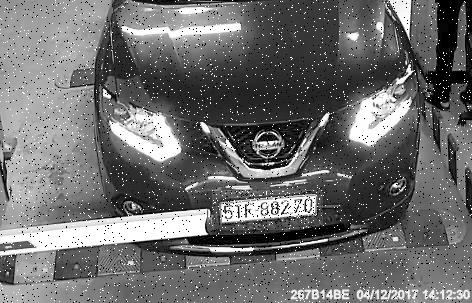License-plate: (214, 191, 326, 231)
